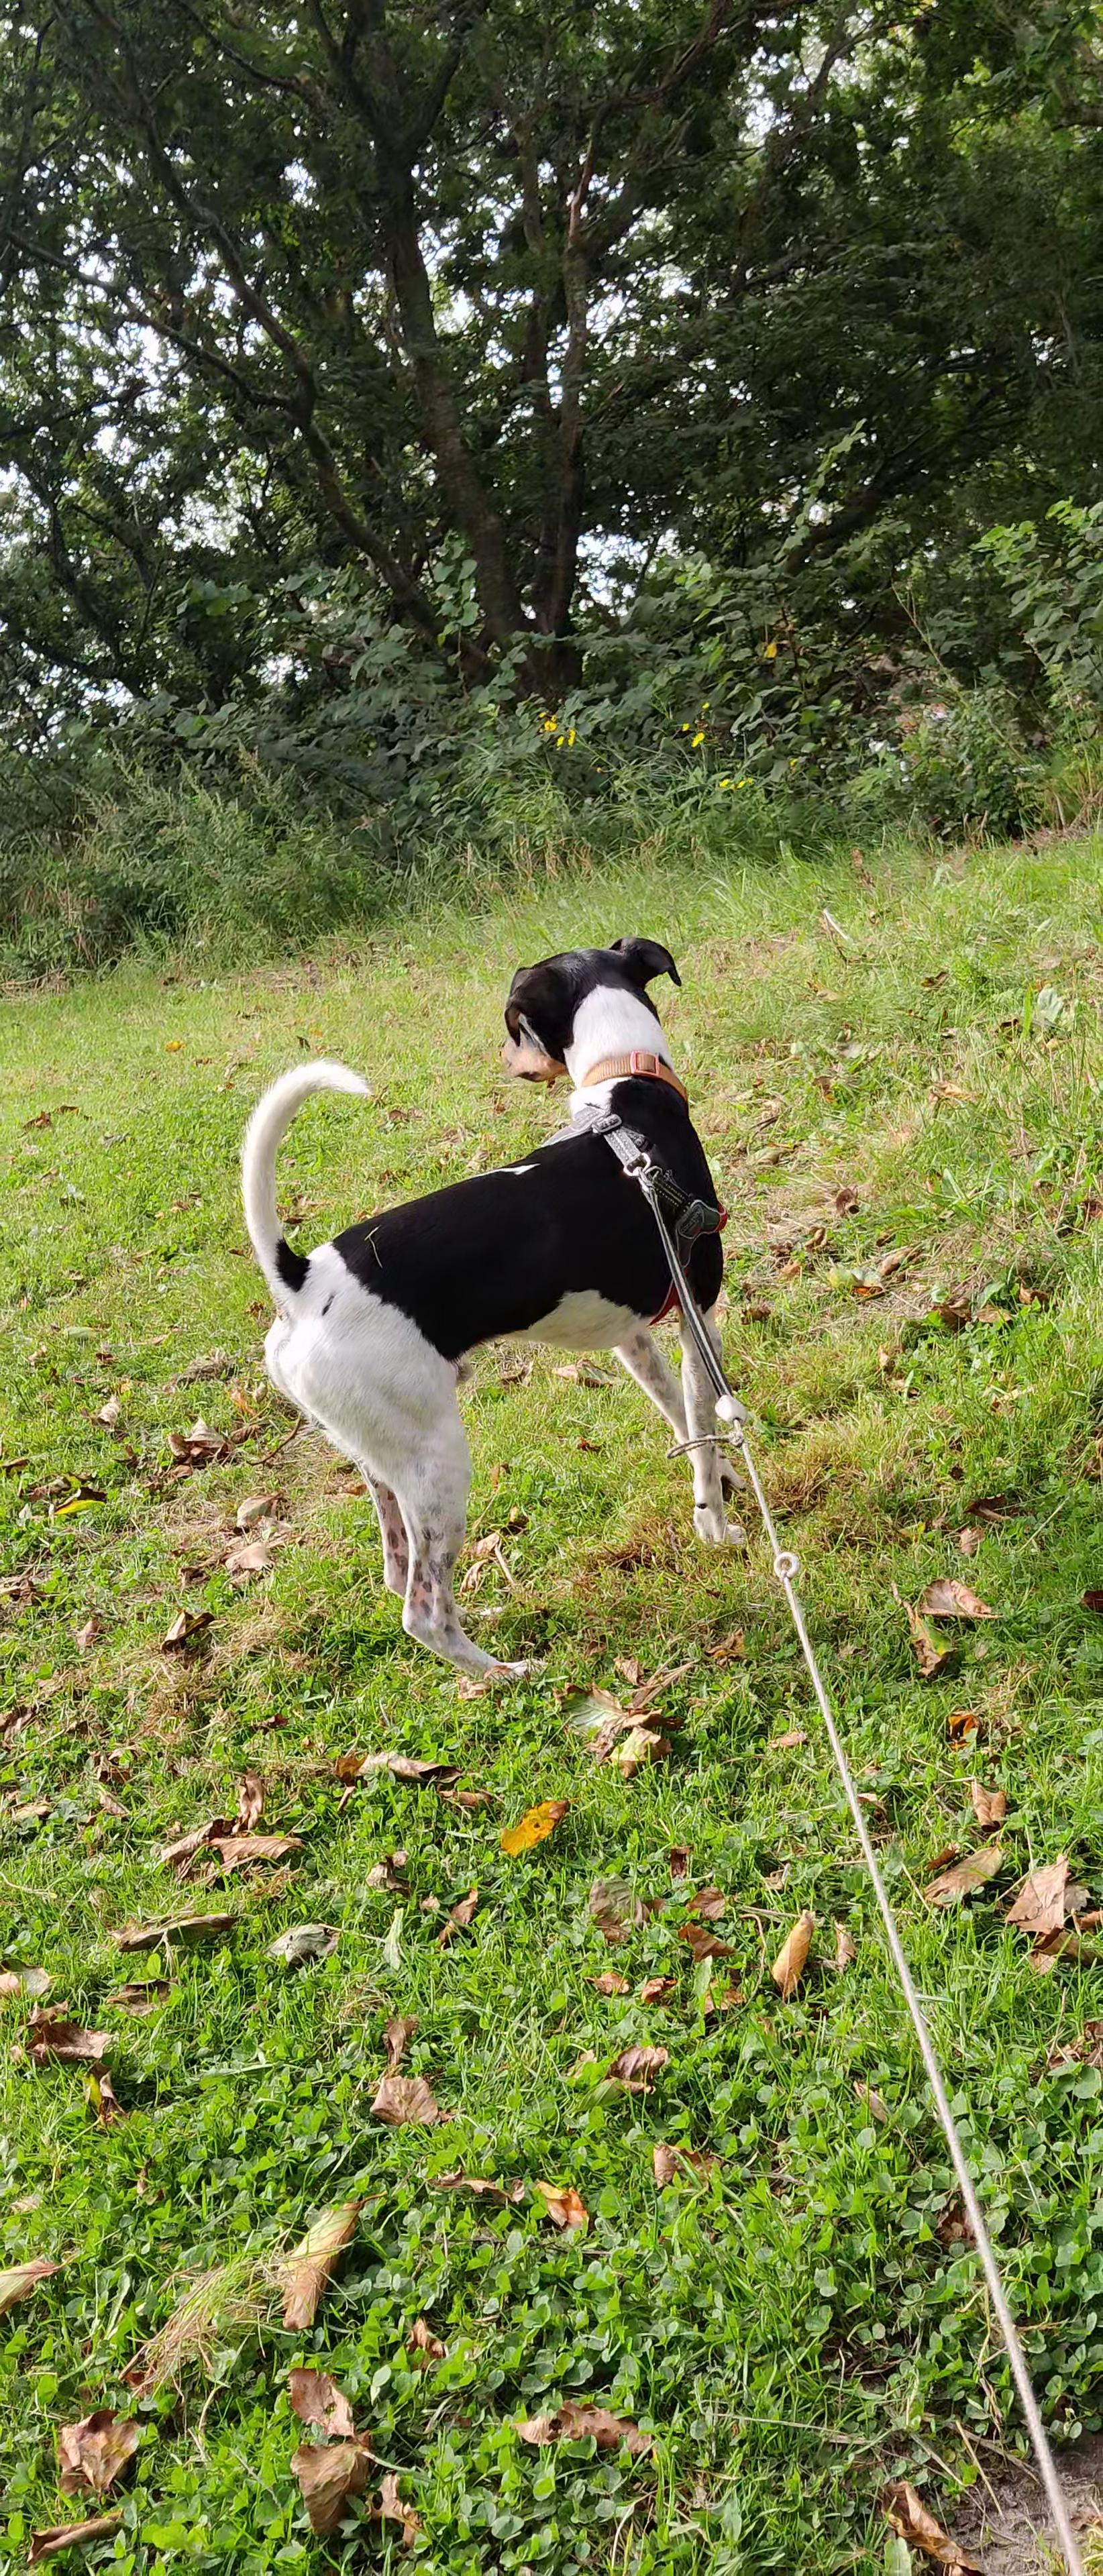Dog: (224, 920, 774, 1704)
